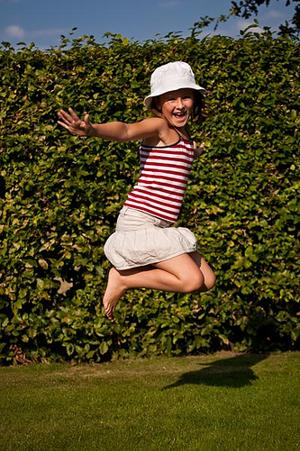person: (59, 61, 220, 321)
